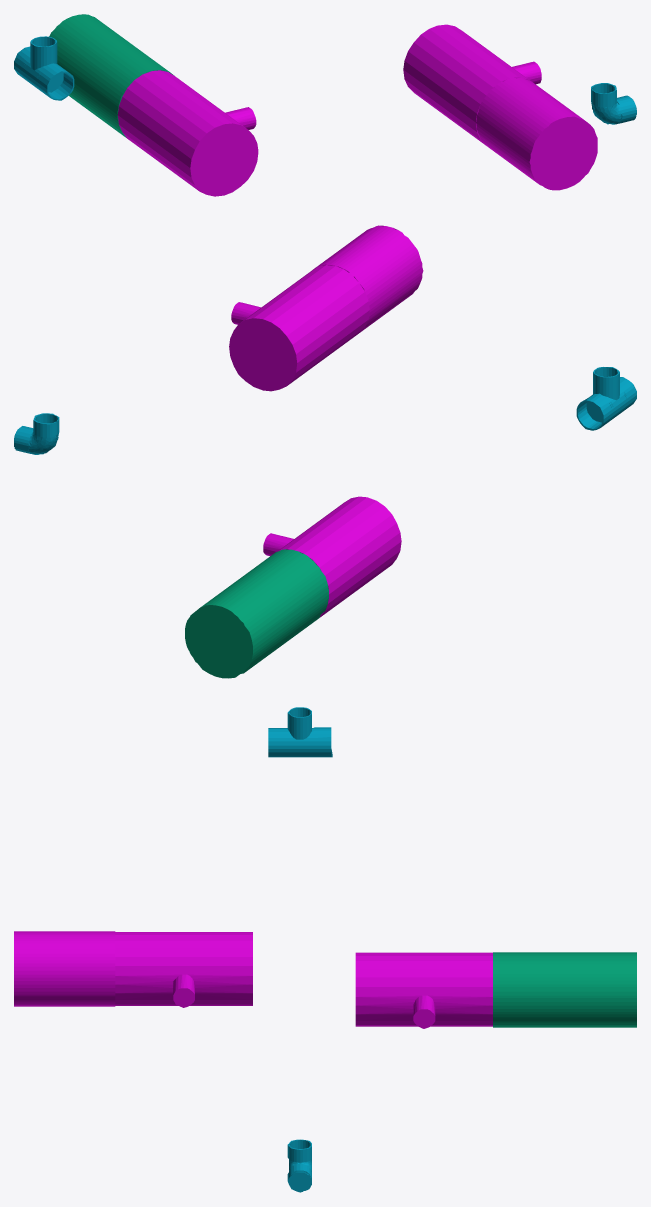
3 renders of one model, top to bottom at view 1: azimuth 30°, elevation 25°; view 2: azimuth 150°, elevation 25°; view 3: azimuth 270°, elevation 25°, orthographic. The views are drawn at different scales.
Bounding box in the file's own units: 1.01 × 0.3636 × 0.9585.
